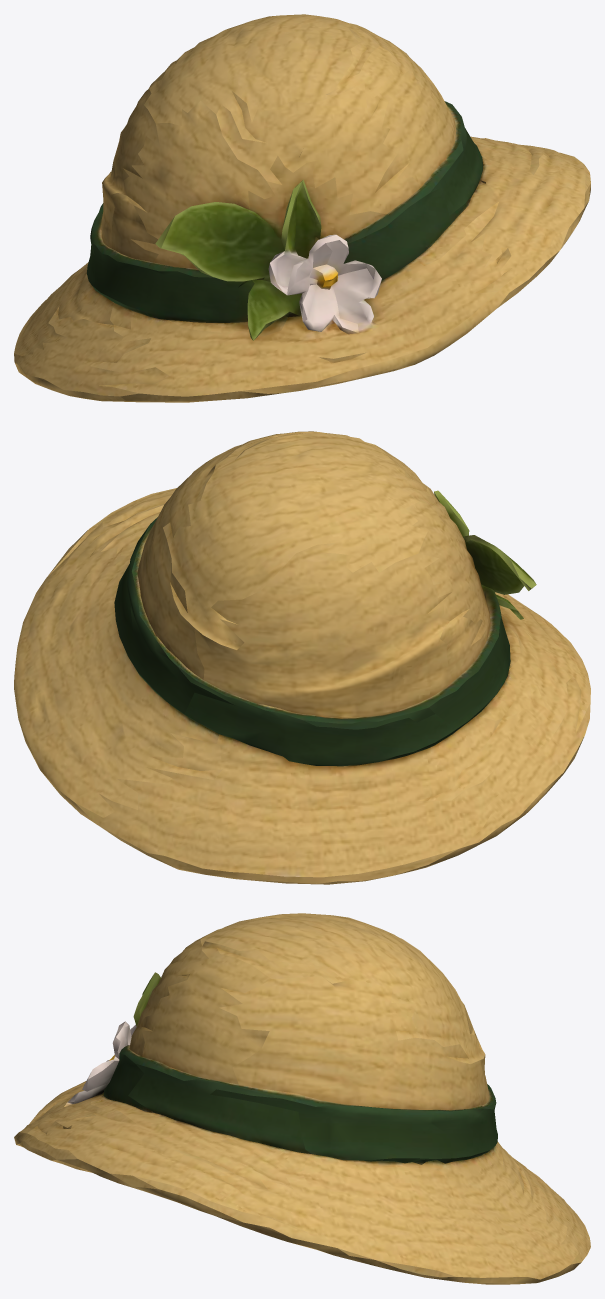
File: hat.glb
3 renders of one model, top to bottom at view 1: azimuth 30°, elevation 25°; view 2: azimuth 150°, elevation 25°; view 3: azimuth 270°, elevation 25°, orthographic. The views are drawn at different scales.
Parts seen in each view (by area): view 1: geometry_0; view 2: geometry_0; view 3: geometry_0.
Part boxes in pixels (left/top/right/bottom): geometry_0: left=14, top=14, right=590, bottom=402; geometry_0: left=14, top=431, right=590, bottom=884; geometry_0: left=14, top=913, right=590, bottom=1284.
Size of the model in its own units: 0.35 by 0.2139 by 0.3422.
Materials: 1 (1 with a texture image).
